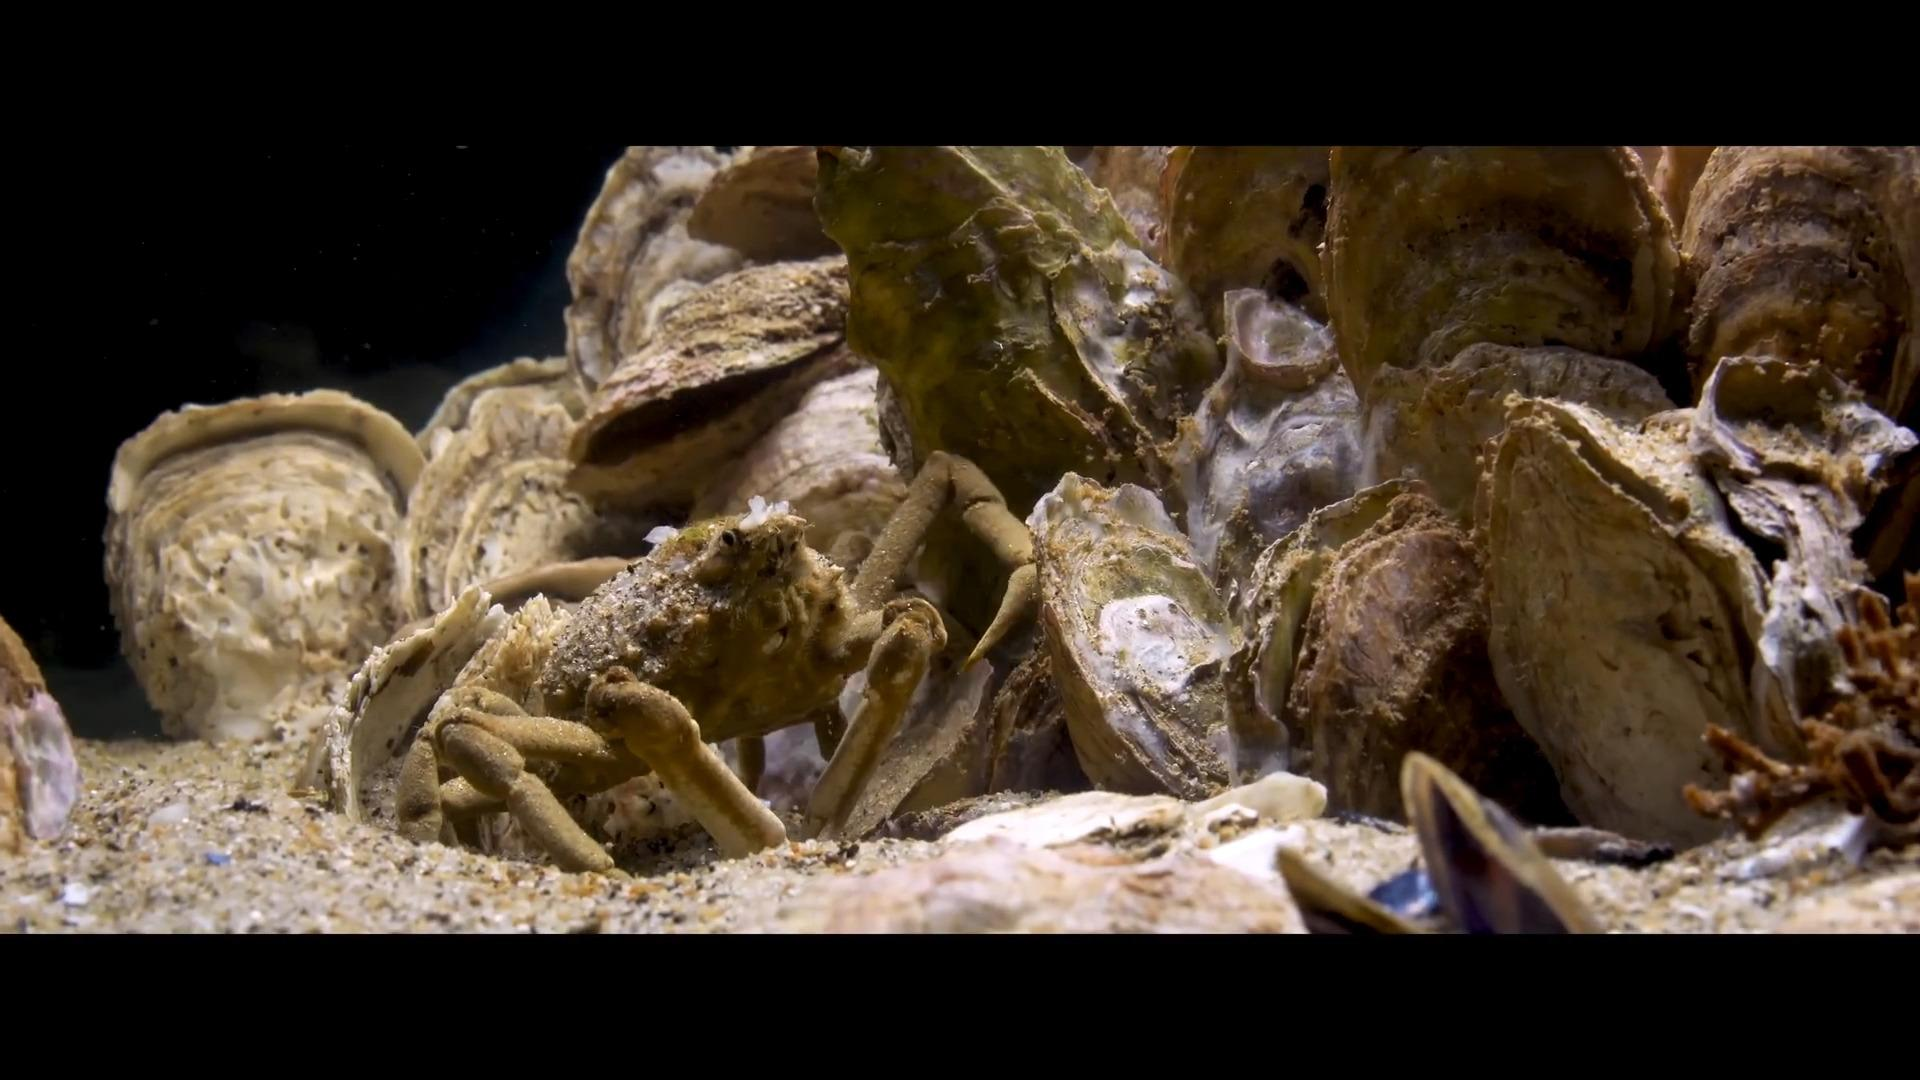Oyster: (1478, 400, 1760, 845), (104, 390, 422, 740), (1320, 148, 1683, 419), (1275, 481, 1538, 824), (1026, 467, 1253, 806), (1677, 146, 1920, 421), (1178, 286, 1375, 605), (1369, 342, 1681, 542), (1688, 345, 1920, 599), (562, 142, 781, 400), (405, 359, 613, 624), (687, 356, 911, 584), (320, 576, 512, 832), (0, 607, 82, 855)
